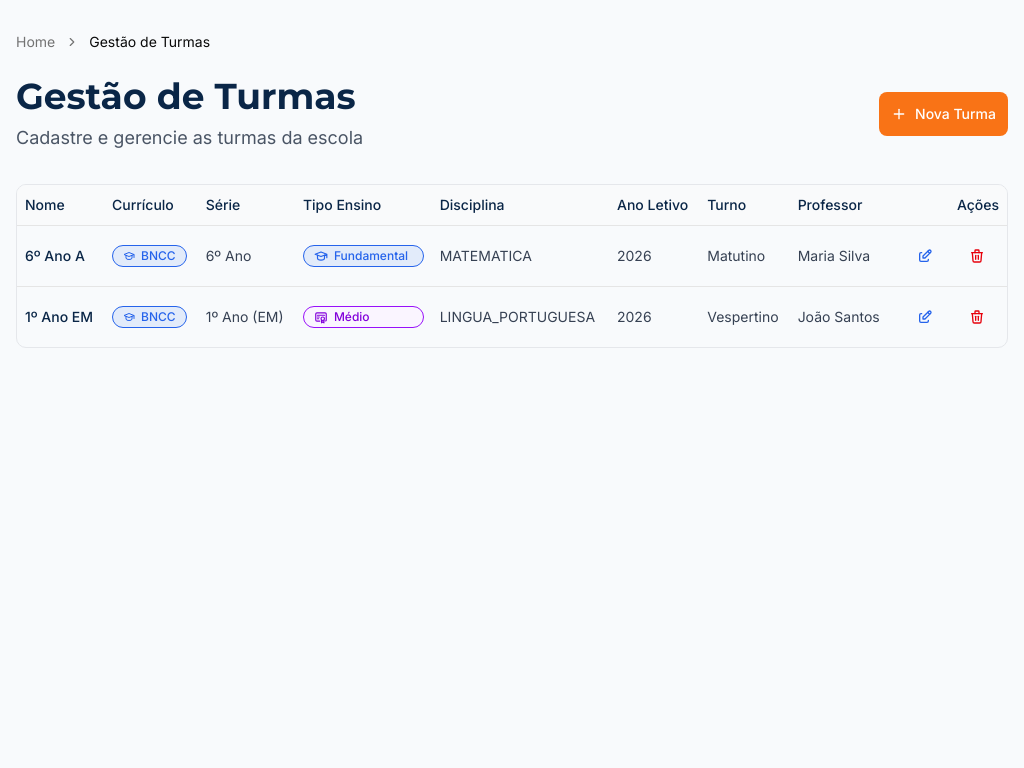
Test case: TurmasListPage › should open dialog when clicking "Nova Turma"
Expected: the text "6º Ano A" is shown, [17,225,104,286]
Click the button "Nova Turma" at (944, 114), box [879,92,1008,136]
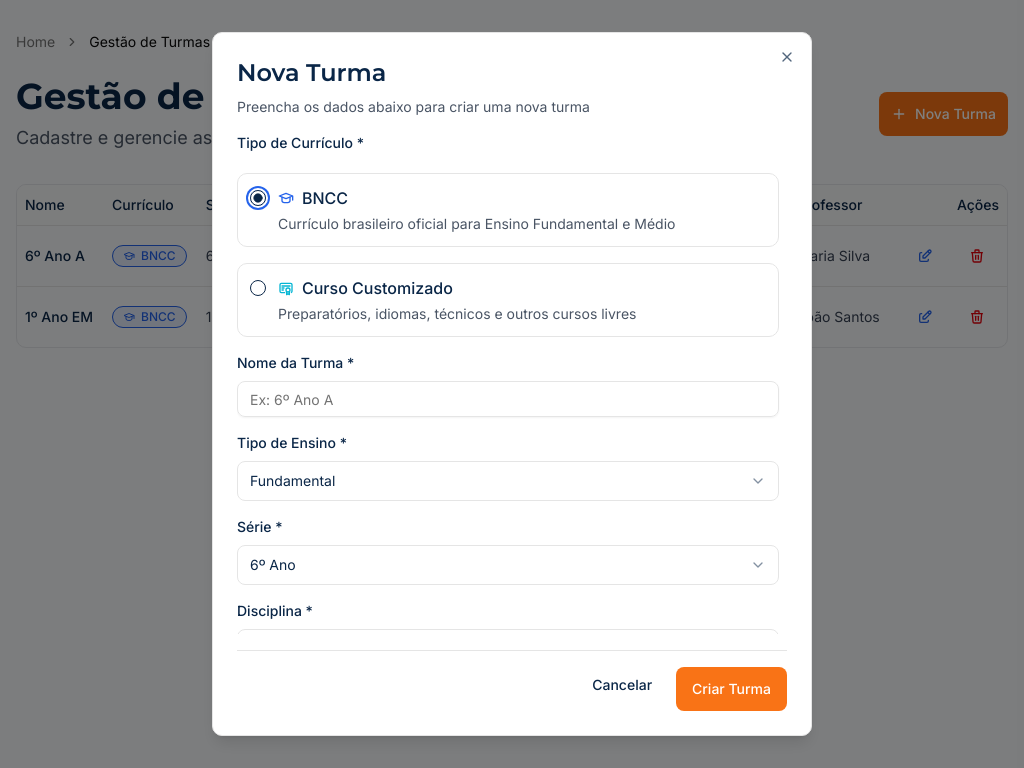
Now the dialog is shown, box [212,32,812,736]
Now the heading "Nova Turma" is shown, box [237,58,386,87]
